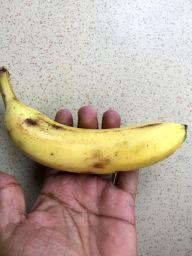Banana Ripe: (0, 68, 192, 181)
